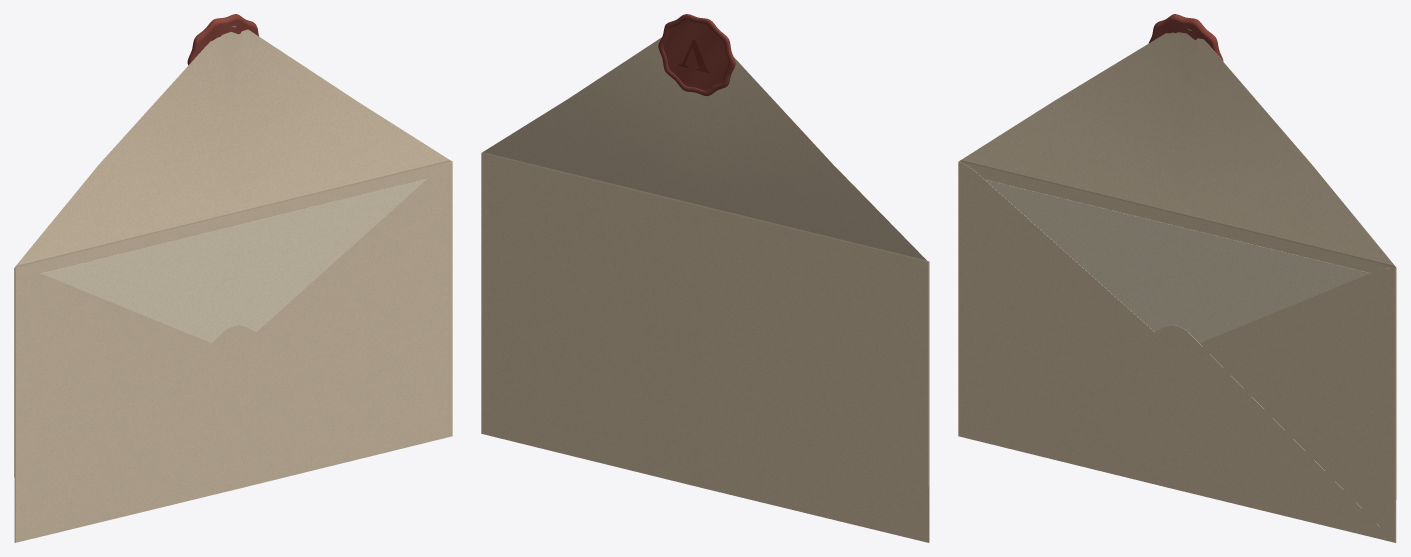
The model's file is envelope-prototype.glb.
The picture shows the model from 3 angles, left to right: view 1: azimuth 30°, elevation 25°; view 2: azimuth 150°, elevation 25°; view 3: azimuth 330°, elevation 25°; orthographic projection. The views are drawn at different scales.
Parts seen in each view (by area): view 1: EnvelopeBody, FlapHinge, InvitationCard, WaxSeal; view 2: EnvelopeBody, FlapHinge, WaxSeal; view 3: EnvelopeBody, FlapHinge, InvitationCard, WaxSeal.
Part boxes in pixels (<box>): EnvelopeBody: <box>14,159,452,542</box>; FlapHinge: <box>17,26,448,264</box>; InvitationCard: <box>41,179,426,342</box>; WaxSeal: <box>187,14,258,65</box>; EnvelopeBody: <box>481,151,929,542</box>; FlapHinge: <box>484,37,925,259</box>; WaxSeal: <box>658,14,735,96</box>; EnvelopeBody: <box>958,159,1396,542</box>; FlapHinge: <box>962,29,1393,264</box>; InvitationCard: <box>984,179,1370,342</box>; WaxSeal: <box>1148,14,1223,61</box>.
Bounding box in the file's own units: 2 × 2.04 × 0.0855.
Materials: 3 (3 with a texture image).
